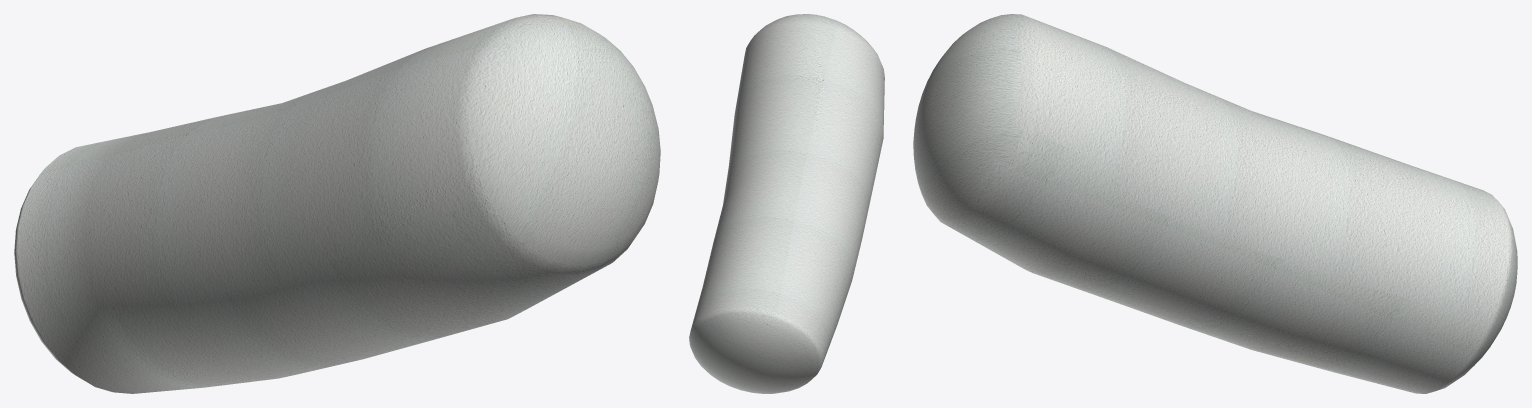
File: filler.fbx
3 views of the same model, side by side, from view 1: azimuth 30°, elevation 25°; view 2: azimuth 150°, elevation 25°; view 3: azimuth 270°, elevation 25° (orthographic). The views are drawn at different scales.
Visible parts, largest first — view 1: filler; view 2: filler; view 3: filler.
Boxes of the visible parts, x1,y1,x2,y2 form: filler: (14,14,660,393); filler: (689,14,884,393); filler: (913,14,1517,393).
Size of the model in its own units: 11.08 by 13.68 by 18.
1 material, 1 textured.
